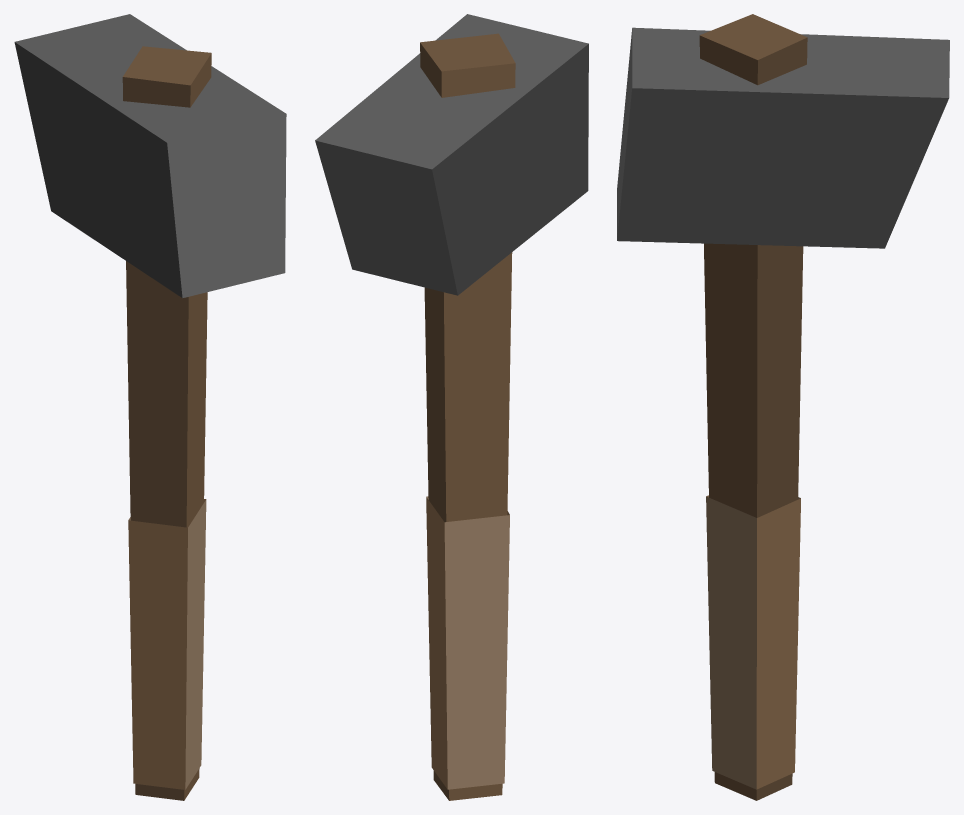
Rendered from Item_Hammer00.FBX.
3 renders of one model, left to right at view 1: azimuth 30°, elevation 25°; view 2: azimuth 150°, elevation 25°; view 3: azimuth 270°, elevation 25°, orthographic. The views are drawn at different scales.
Parts seen in each view (by area): view 1: Item_Hammer00; view 2: Item_Hammer00; view 3: Item_Hammer00.
Boxes of the visible parts, x1,y1,x2,y2 form: Item_Hammer00: [14, 14, 286, 800]; Item_Hammer00: [315, 14, 588, 800]; Item_Hammer00: [617, 14, 949, 800].
Bounding box in the file's own units: 8.73 × 50.38 × 20.34.
